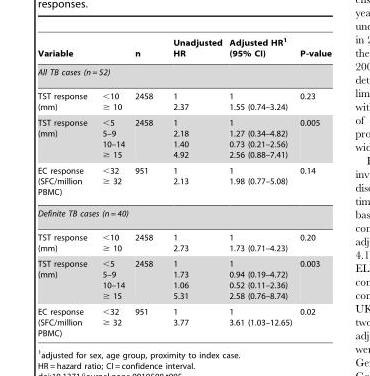table: (36, 36, 330, 337)
table column: (225, 36, 295, 337), (162, 36, 225, 337), (36, 36, 94, 337), (94, 36, 129, 337), (295, 36, 330, 337), (129, 36, 162, 337)
table column header: (36, 36, 330, 62)
table projected row header: (36, 202, 330, 225), (36, 62, 330, 83)
table row: (36, 114, 330, 162), (36, 255, 330, 303), (36, 162, 330, 202), (36, 303, 330, 337), (36, 83, 330, 114), (36, 225, 330, 255), (36, 36, 330, 62), (36, 202, 330, 225), (36, 62, 330, 83)
